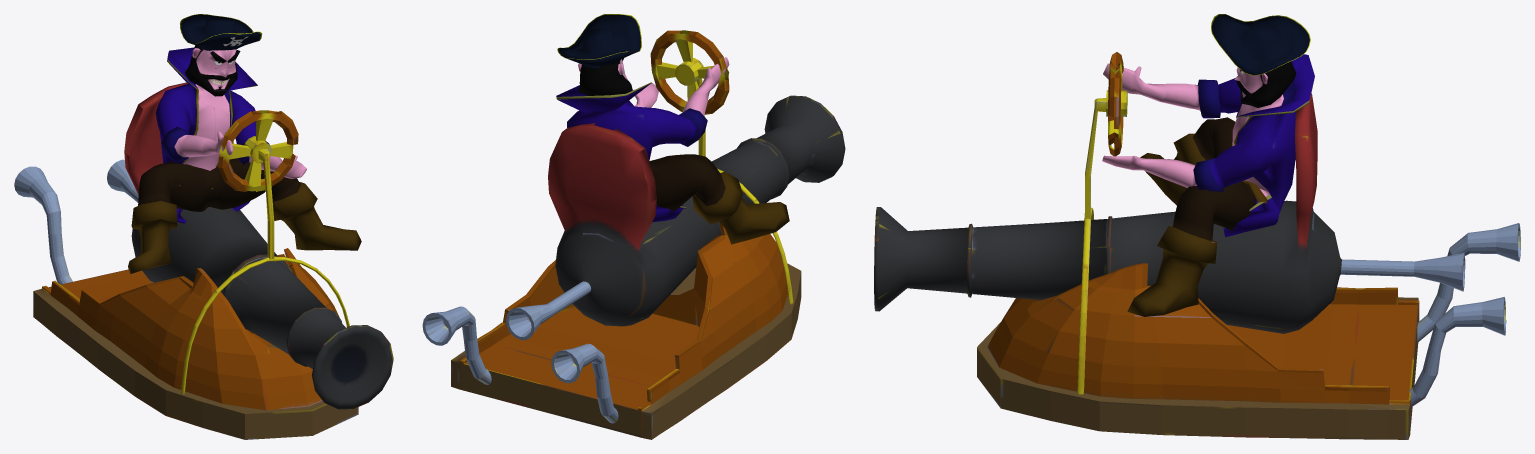
Rendered from pirataGiroDER_000343.obj.
The picture shows the model from 3 angles, left to right: view 1: azimuth 30°, elevation 25°; view 2: azimuth 150°, elevation 25°; view 3: azimuth 270°, elevation 25°; orthographic projection. The views are drawn at different scales.
Parts seen in each view (by area): view 1: carro_pirata, Pirata_PirataH; view 2: carro_pirata, Pirata_PirataH; view 3: carro_pirata, Pirata_PirataH.
Boxes of the visible parts, x1,y1,x2,y2 form: carro_pirata: (14, 82, 393, 439); Pirata_PirataH: (128, 14, 361, 274); carro_pirata: (422, 30, 845, 439); Pirata_PirataH: (556, 14, 789, 244); carro_pirata: (874, 52, 1520, 439); Pirata_PirataH: (1102, 14, 1314, 316).
Size of the model in its own units: 5.67 by 7.67 by 12.1.
